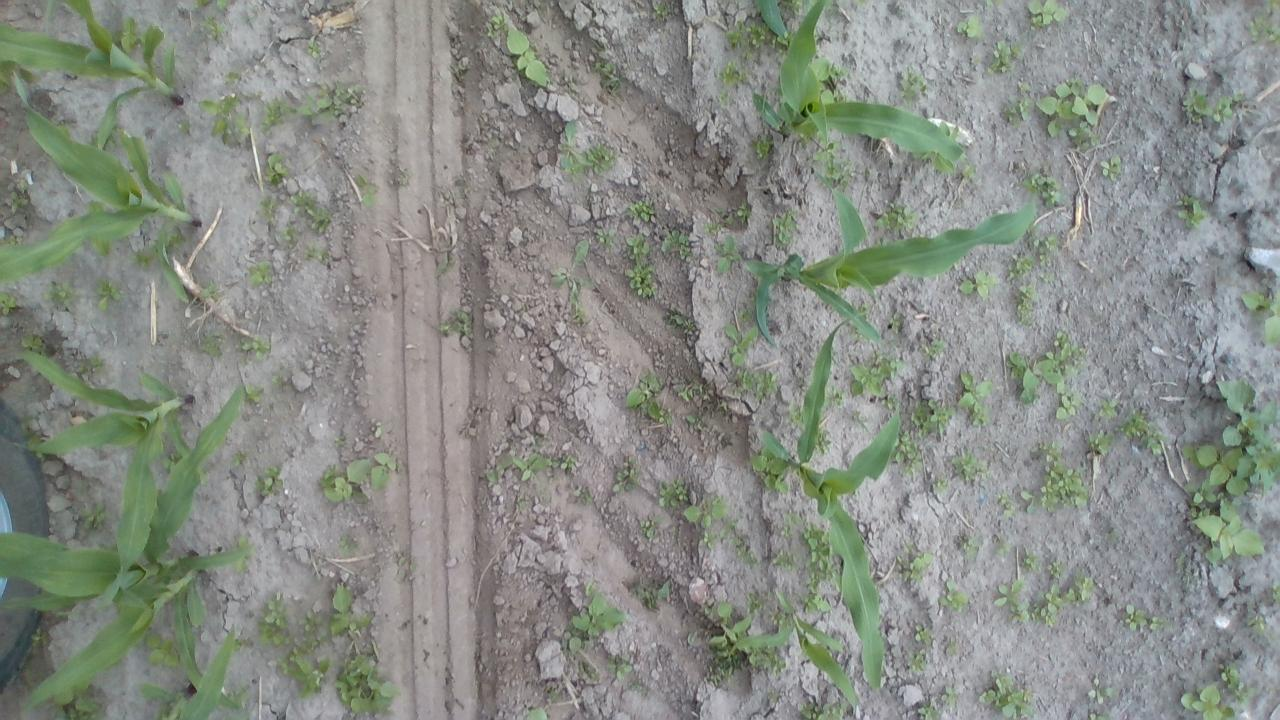Maize: (0, 376, 255, 615), (758, 308, 902, 690), (738, 172, 1038, 348), (8, 338, 198, 600), (1, 72, 202, 307), (754, 0, 967, 170), (0, 568, 240, 710), (0, 1, 188, 150), (730, 586, 856, 706), (139, 621, 237, 720), (754, 0, 788, 36)
Weeds: (1183, 373, 1280, 569), (562, 570, 627, 656), (1038, 76, 1106, 138), (318, 450, 396, 504), (338, 656, 401, 718), (546, 238, 600, 308), (292, 79, 366, 126), (1041, 441, 1089, 510), (279, 636, 332, 697), (503, 23, 551, 89), (484, 450, 580, 482), (330, 580, 380, 640), (978, 668, 1040, 716), (1008, 346, 1066, 394), (200, 92, 250, 146), (1239, 288, 1280, 344), (706, 648, 764, 686), (1178, 682, 1235, 720), (290, 190, 336, 236), (626, 370, 664, 424), (812, 137, 853, 187), (707, 601, 747, 650), (257, 588, 290, 646), (850, 352, 891, 397), (1122, 406, 1162, 452), (54, 684, 104, 720), (912, 396, 952, 441), (630, 574, 679, 610), (954, 369, 995, 412), (558, 121, 588, 178), (802, 520, 836, 570), (994, 578, 1031, 622), (814, 57, 850, 102), (145, 630, 183, 670), (724, 325, 761, 366), (1220, 660, 1256, 702), (258, 93, 296, 132), (988, 39, 1030, 74), (951, 446, 994, 480), (1054, 330, 1088, 373), (754, 456, 790, 496), (894, 434, 926, 476), (1035, 583, 1067, 625), (35, 282, 77, 313), (684, 502, 734, 528), (626, 264, 662, 300), (588, 137, 624, 173), (900, 546, 936, 582), (718, 232, 746, 276), (76, 498, 110, 532), (876, 203, 922, 228), (1176, 192, 1206, 230), (1028, 0, 1070, 27), (958, 270, 998, 296), (1034, 172, 1065, 205), (898, 68, 931, 99), (261, 151, 291, 185), (779, 505, 808, 540), (1016, 282, 1040, 324), (662, 231, 694, 262), (610, 458, 641, 490), (439, 306, 474, 334), (1069, 120, 1101, 150), (772, 208, 799, 243), (799, 699, 843, 720), (1064, 576, 1098, 603), (628, 198, 663, 224), (759, 370, 785, 405), (238, 330, 274, 355), (658, 479, 689, 508), (1186, 84, 1208, 124), (1001, 95, 1031, 123), (197, 330, 224, 360), (200, 16, 227, 46), (597, 63, 624, 93), (1058, 391, 1084, 422), (1088, 678, 1120, 703), (74, 355, 108, 378), (679, 381, 710, 406), (356, 173, 379, 206), (98, 280, 125, 308), (772, 546, 799, 574), (248, 260, 278, 285), (666, 309, 696, 334), (626, 234, 654, 260), (198, 276, 222, 306), (1100, 156, 1124, 186), (940, 588, 976, 608), (1212, 94, 1235, 125), (1006, 251, 1032, 278), (746, 19, 772, 46), (706, 210, 729, 240), (260, 465, 287, 490), (1089, 428, 1115, 453), (802, 594, 834, 614), (719, 60, 748, 82), (958, 14, 984, 38), (0, 294, 22, 322), (264, 194, 282, 228), (1125, 603, 1149, 628), (136, 247, 158, 274), (914, 623, 939, 646), (736, 540, 758, 565), (998, 492, 1018, 518), (304, 244, 332, 262), (614, 658, 635, 682), (736, 302, 760, 323), (736, 368, 754, 395), (304, 38, 325, 61), (734, 200, 752, 226), (1247, 16, 1268, 38), (490, 9, 511, 31), (752, 136, 772, 159), (688, 410, 706, 435), (20, 335, 50, 350), (1034, 231, 1064, 246), (933, 474, 954, 495), (724, 20, 744, 42), (772, 650, 791, 673), (786, 403, 804, 427), (94, 238, 115, 258), (1098, 398, 1119, 418), (597, 227, 618, 247), (30, 628, 52, 647), (823, 387, 845, 406), (701, 532, 720, 554), (915, 704, 941, 720), (941, 684, 967, 700), (819, 428, 835, 453), (572, 306, 592, 326), (1249, 611, 1270, 630), (304, 612, 322, 634), (1020, 490, 1038, 512), (341, 533, 360, 553), (889, 311, 909, 330), (909, 652, 928, 672), (577, 487, 596, 507), (958, 536, 976, 557), (928, 339, 948, 357), (934, 154, 956, 170), (1266, 22, 1280, 47), (578, 662, 597, 680), (657, 4, 676, 22), (968, 410, 992, 424), (642, 513, 654, 540), (688, 628, 702, 651), (746, 592, 766, 608), (766, 608, 786, 624), (286, 223, 301, 244), (876, 393, 897, 408), (1046, 562, 1068, 576), (942, 639, 964, 653), (784, 0, 804, 15), (996, 538, 1010, 559), (248, 385, 264, 403), (1040, 252, 1056, 270), (806, 574, 824, 590), (1022, 550, 1038, 568), (527, 707, 549, 720), (233, 450, 248, 466), (162, 453, 176, 470), (193, 0, 216, 10), (1149, 614, 1164, 628), (892, 357, 905, 372), (272, 375, 286, 388), (1019, 78, 1032, 92), (214, 0, 230, 11), (739, 48, 752, 60), (226, 72, 245, 80), (1270, 580, 1278, 599), (6, 236, 22, 245), (334, 436, 348, 446), (964, 164, 974, 178), (986, 0, 1008, 6), (852, 0, 871, 6), (1269, 0, 1280, 8)
